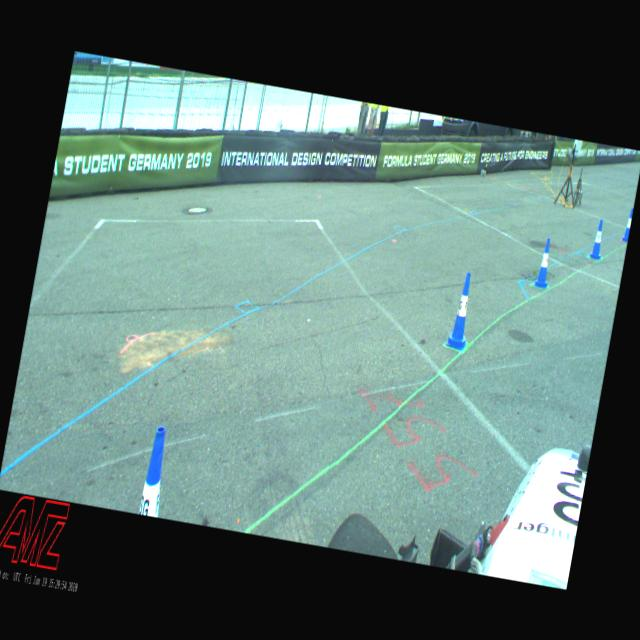blue_cone: (138, 424, 174, 517), (444, 270, 478, 350), (534, 237, 555, 288), (590, 218, 606, 259), (622, 207, 633, 241)
